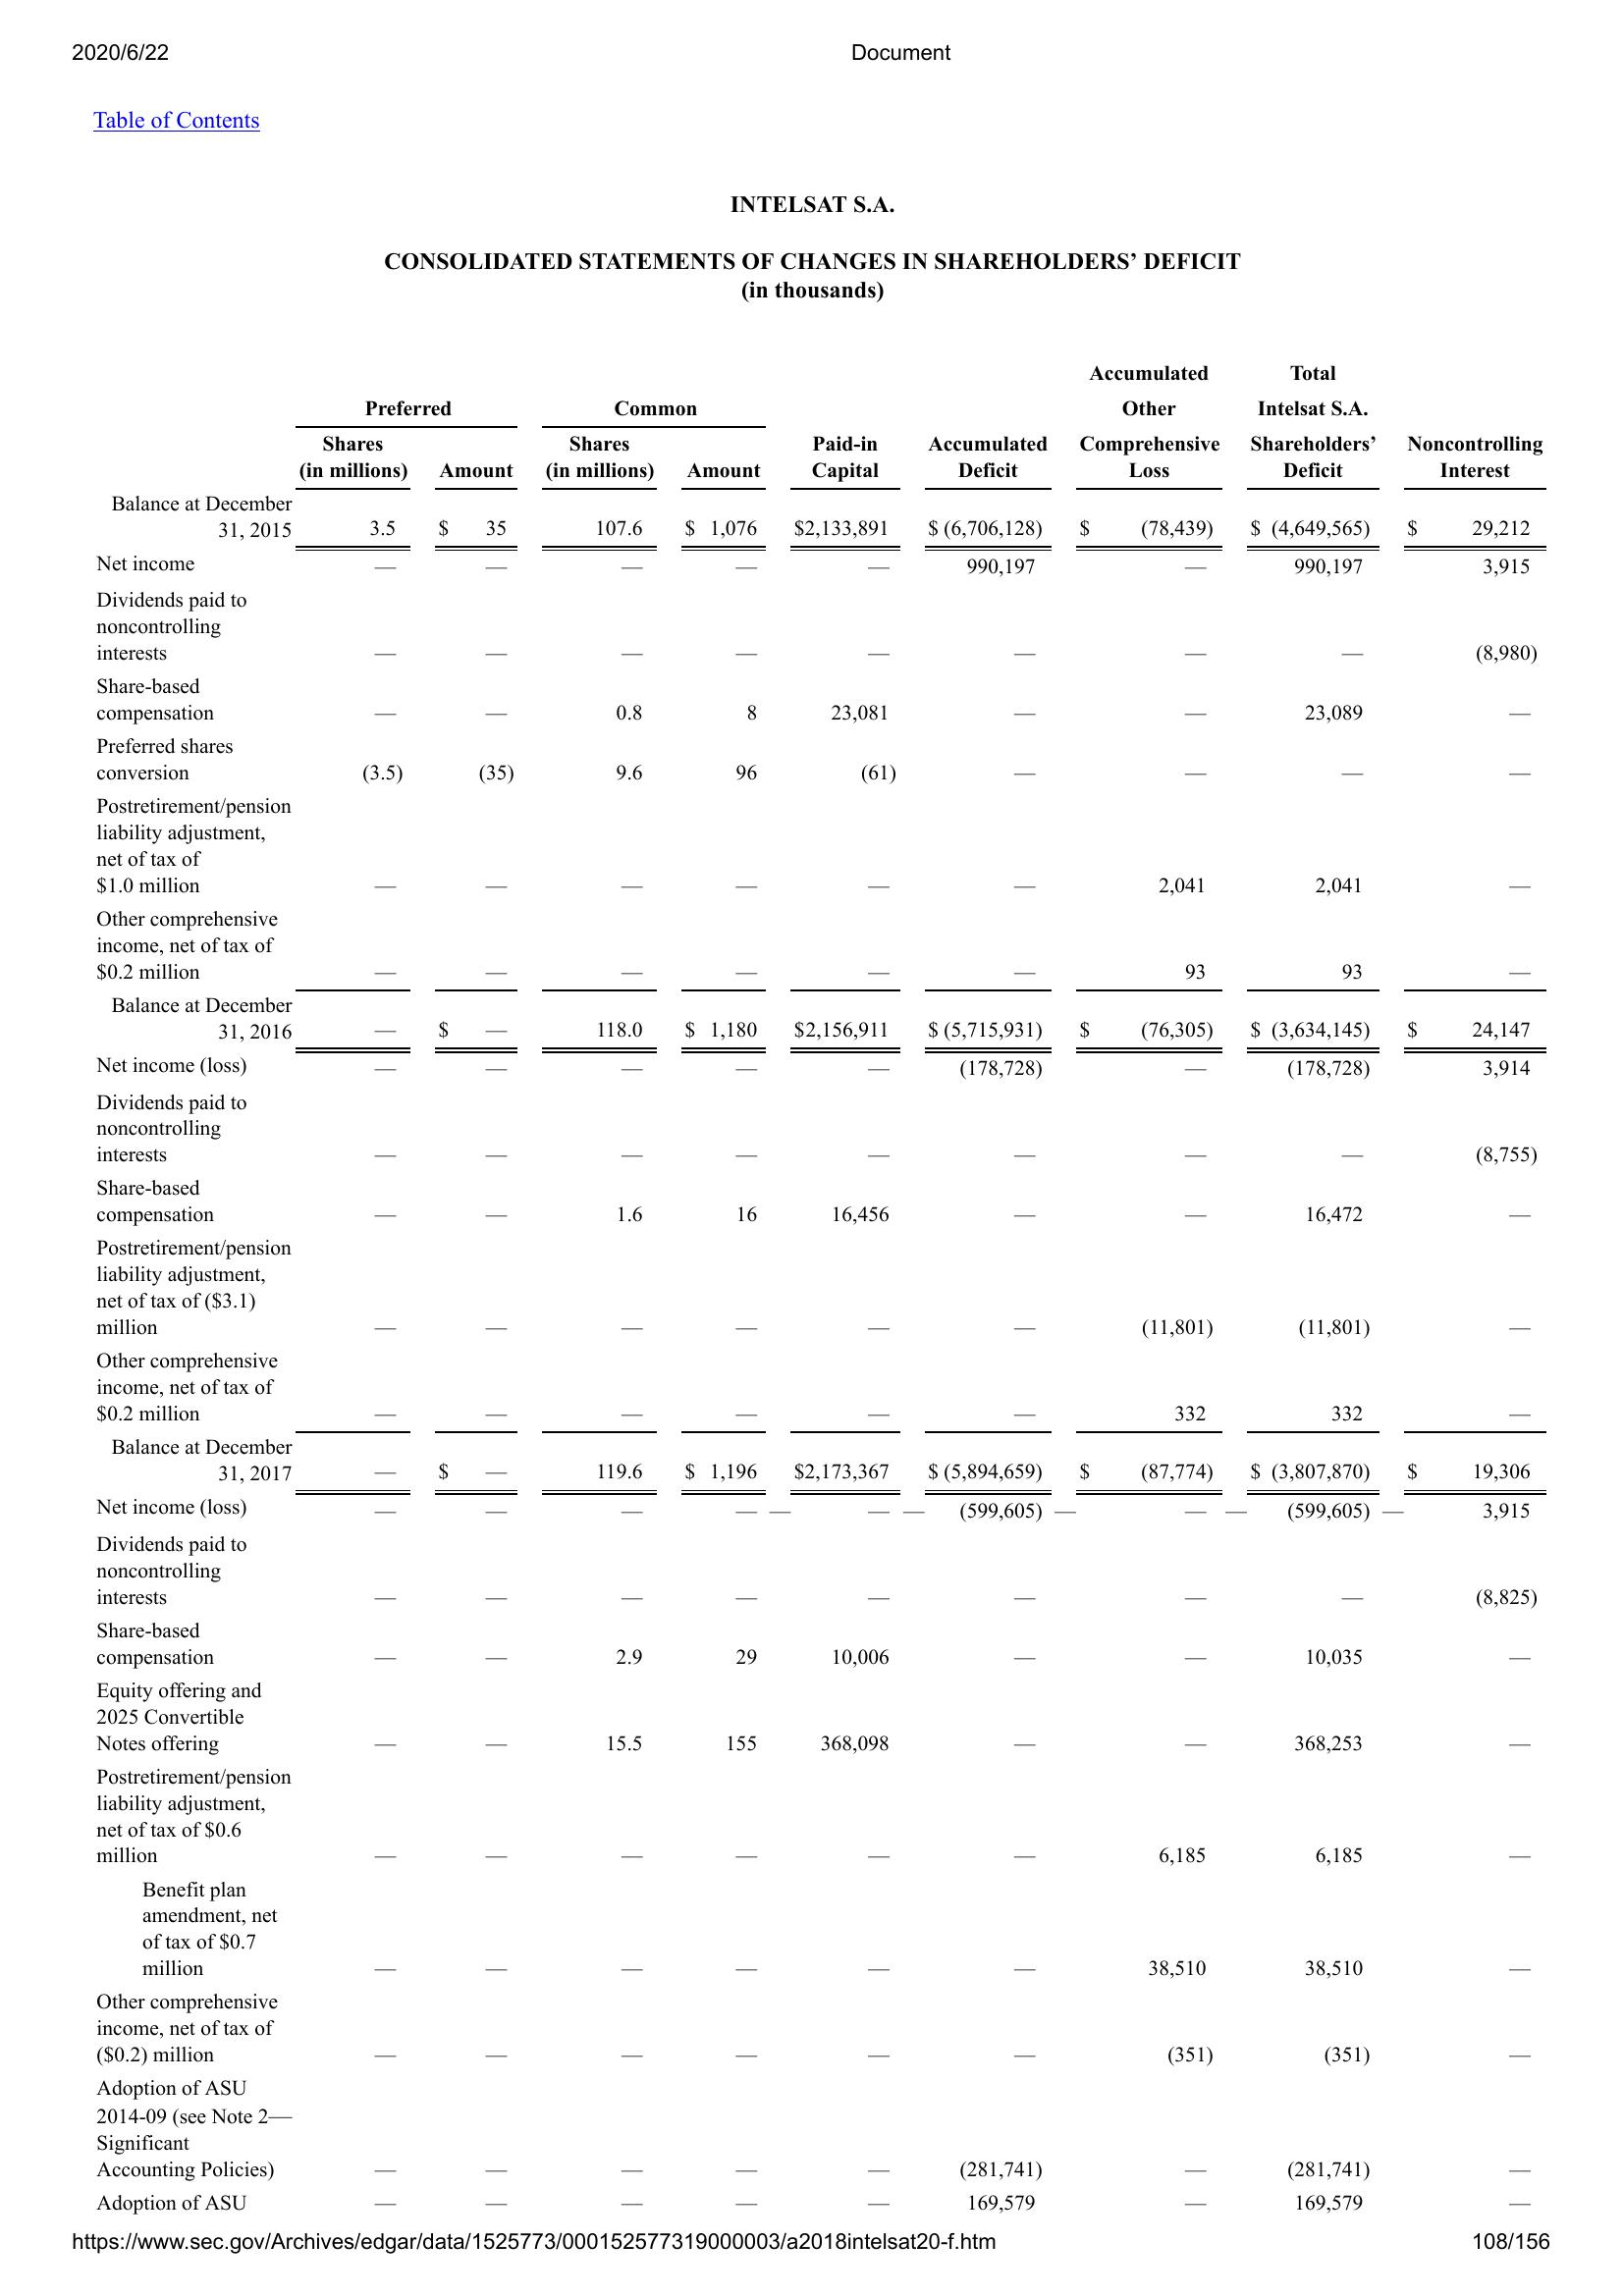table: (79, 360, 1558, 2224)
